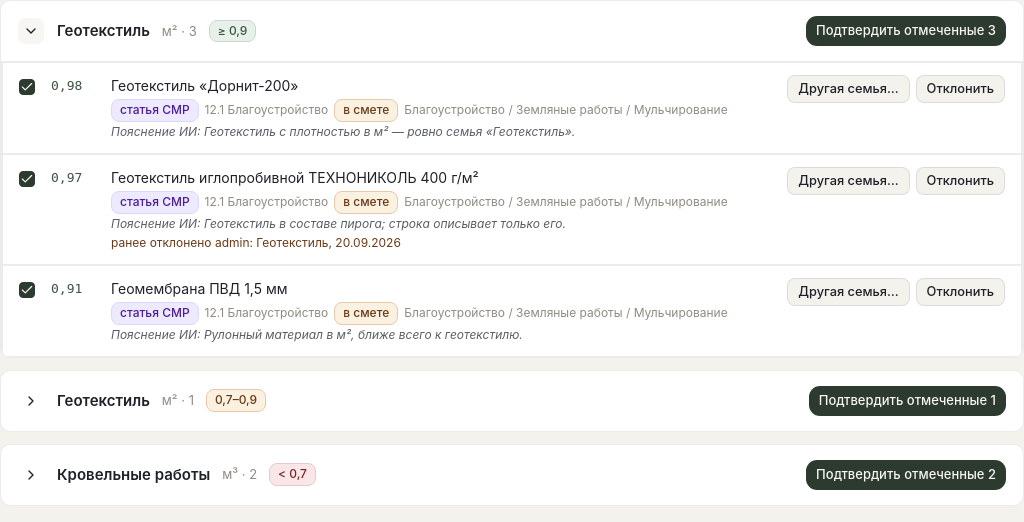
SuggestionGroups — отметки и «Подтвердить отмеченные N» › снятие отметки уменьшает число, повторная отметка возвращает
The width and height of the screenshot is (1024, 522).
Click the checkbox named "Отметить строку" next to "0,98" at (27,87), box [19,79,35,95]
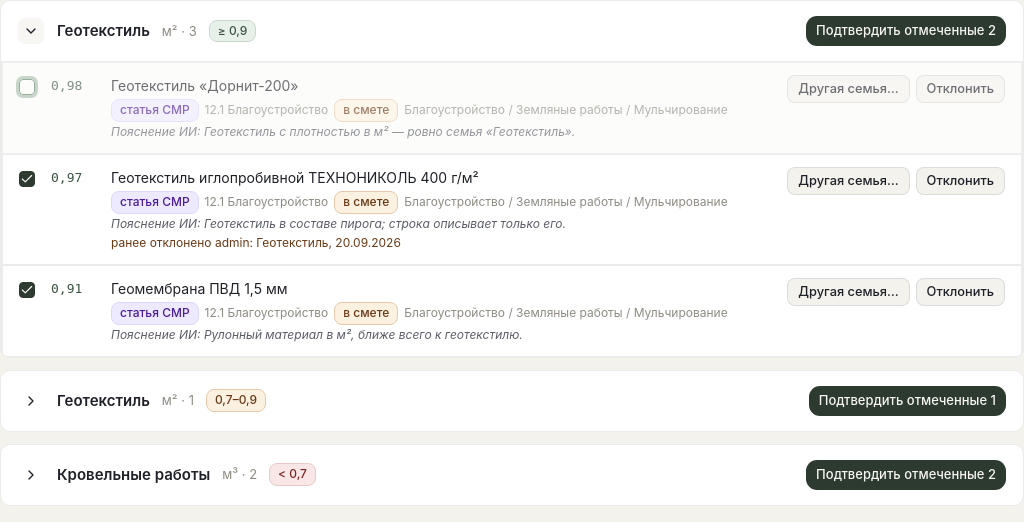
Expected: the button "Подтвердить отмеченные 2" in the row of "≥ 0,9" is shown, [805,15,1007,47]
Click the checkbox named "Отметить строку" next to "0,98" at (27,87), box [19,79,35,95]
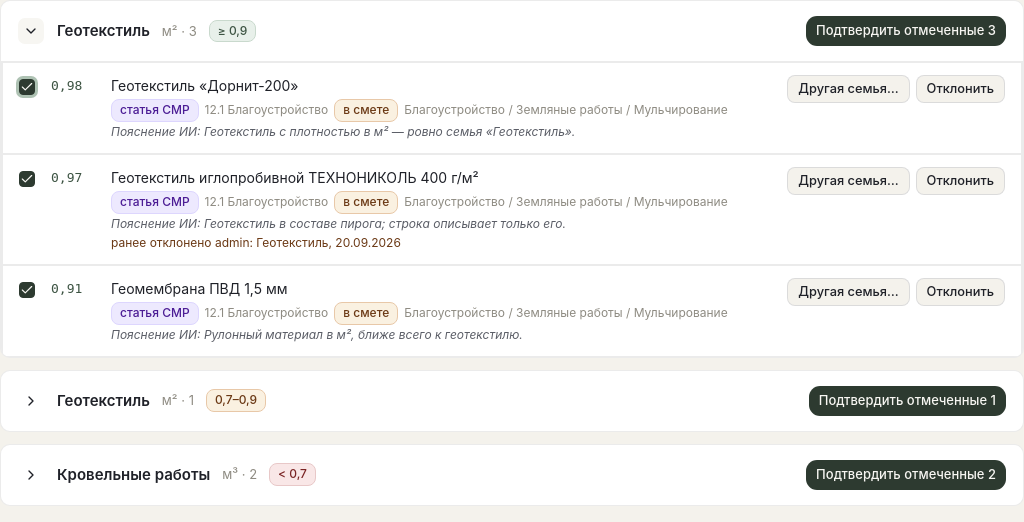
Expected: the button "Подтвердить отмеченные 3" is shown, [805,15,1007,47]
